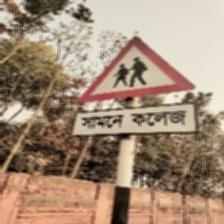College-in-front: (44, 34, 217, 152)
